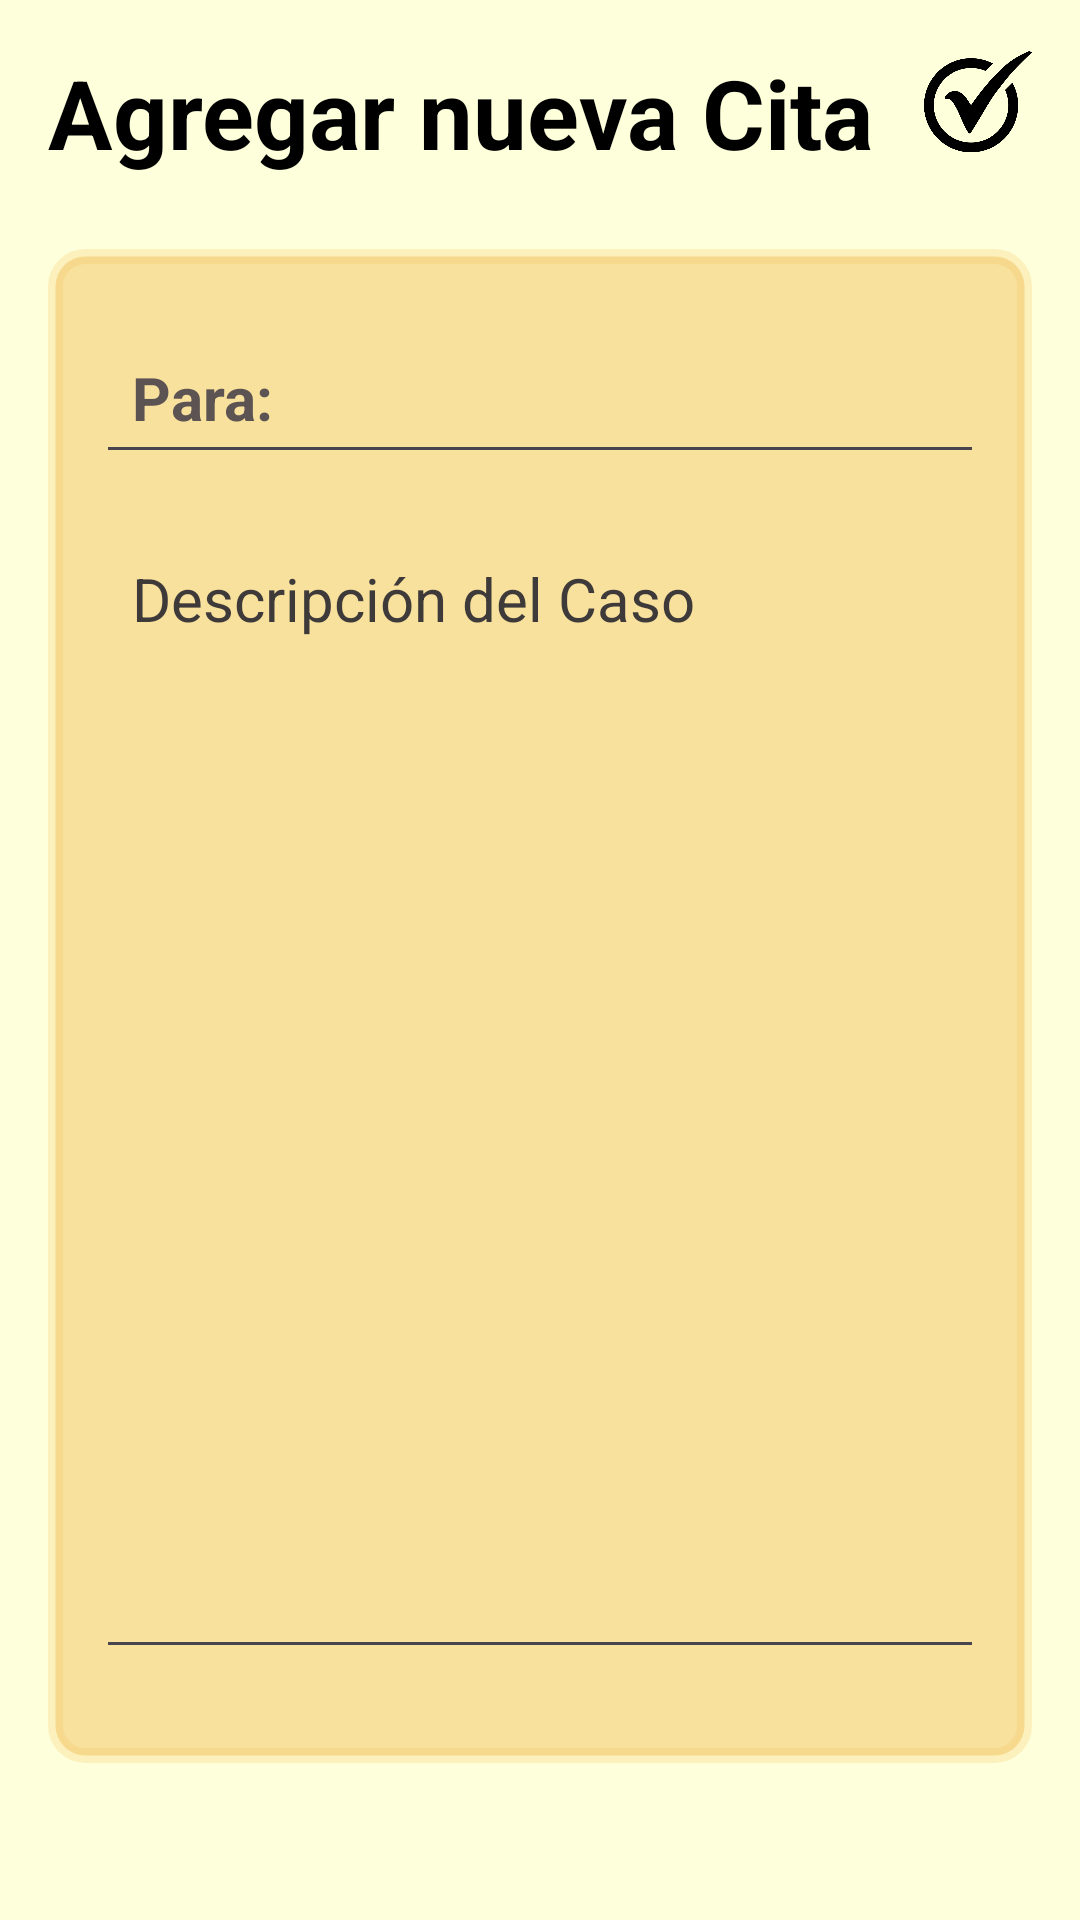

Where icons sit on this 1080w x 1920h app screen, as {"x1": x1, "y1": y1, "x2": x2, "y2": y2}:
check: {"x1": 924, "y1": 51, "x2": 1032, "y2": 152}
